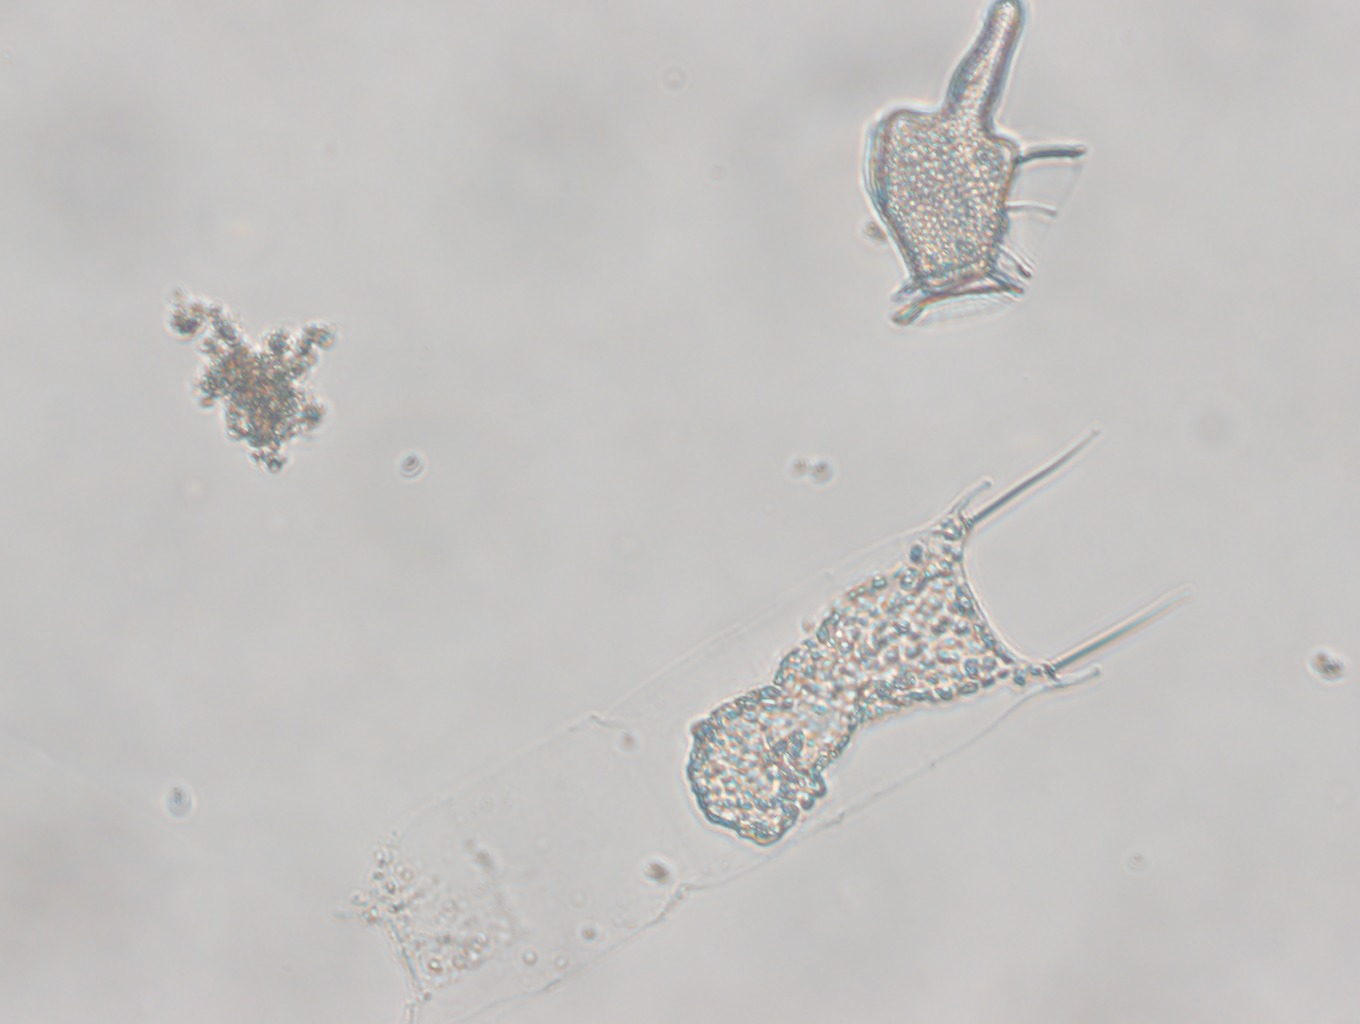biddulphia: (337, 428, 1185, 1024)
dinophysis caudata: (862, 1, 1087, 326)
